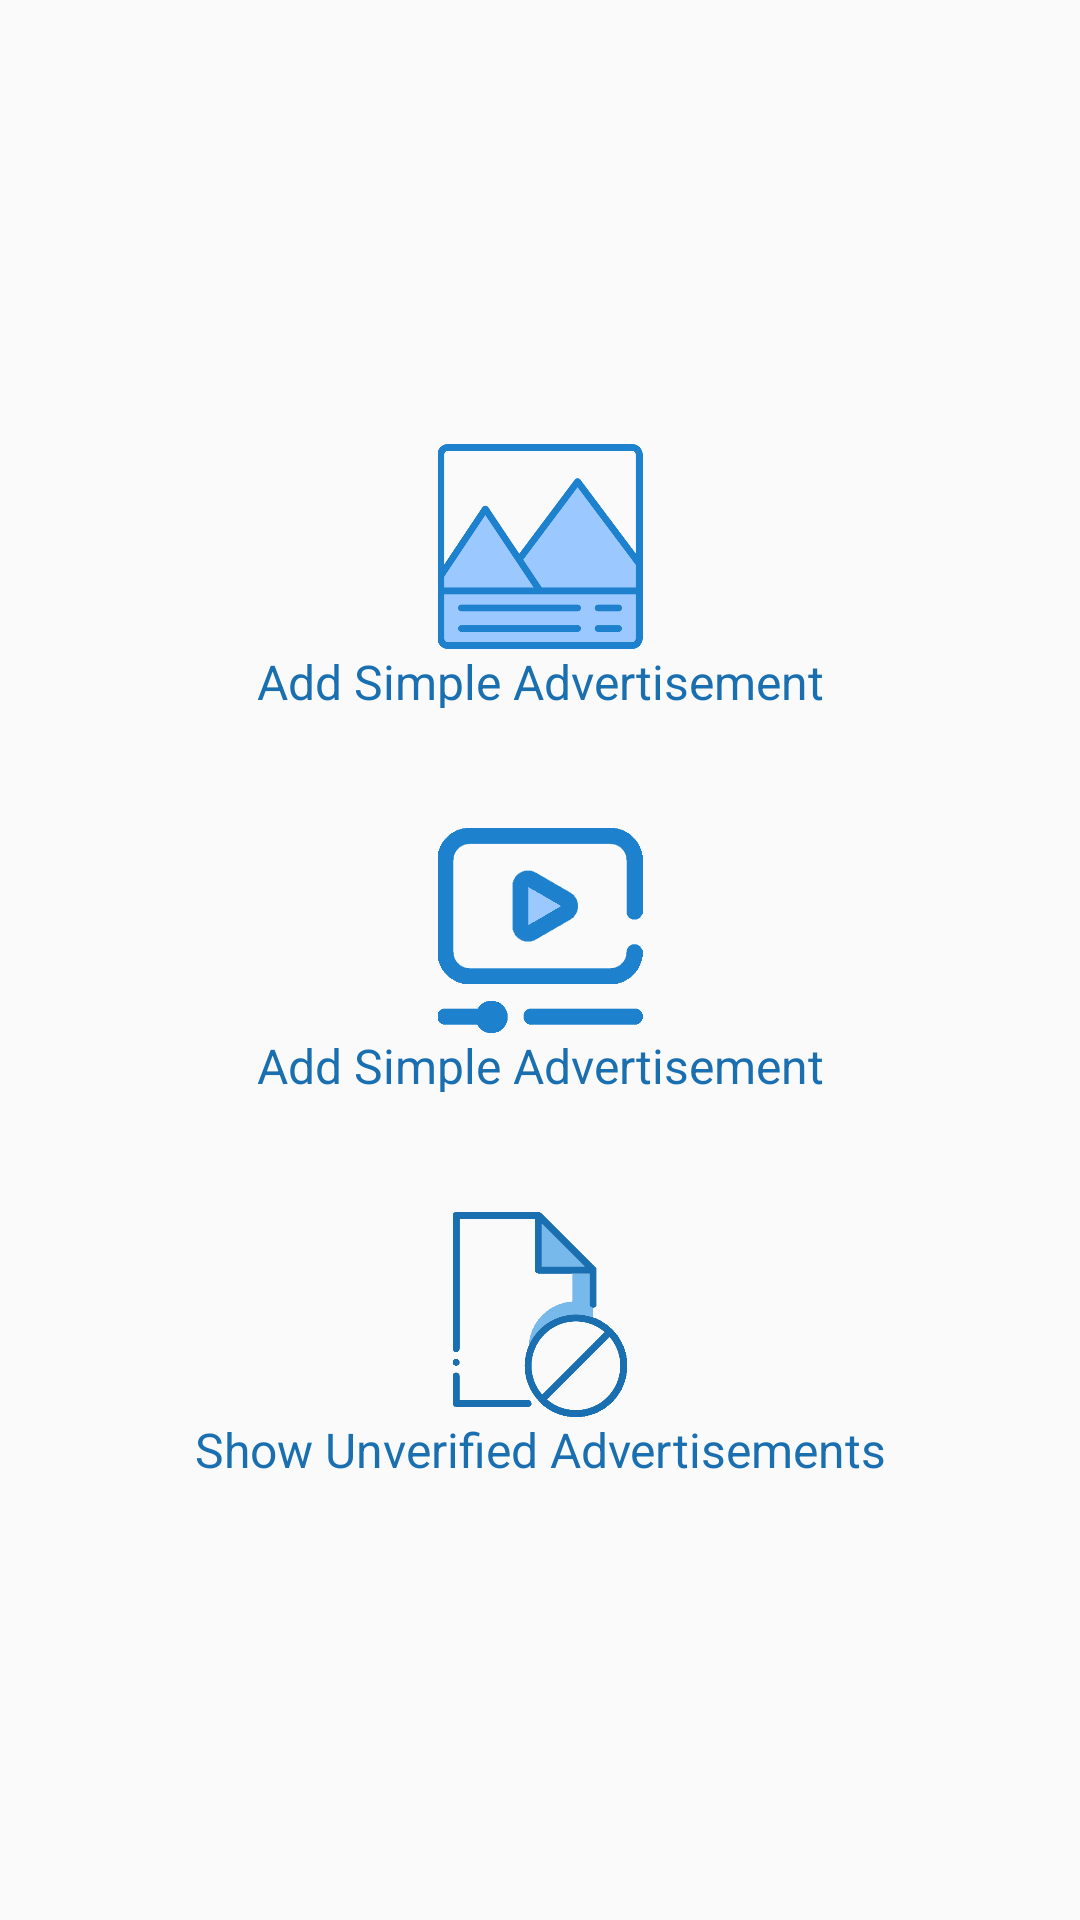

Icon bounding boxes for this 1080px x 1920px phone screenshot, format (x1, y1, x2, y2):
video add: (438, 828, 643, 1033)
